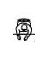Seat: (14, 17, 34, 42)
